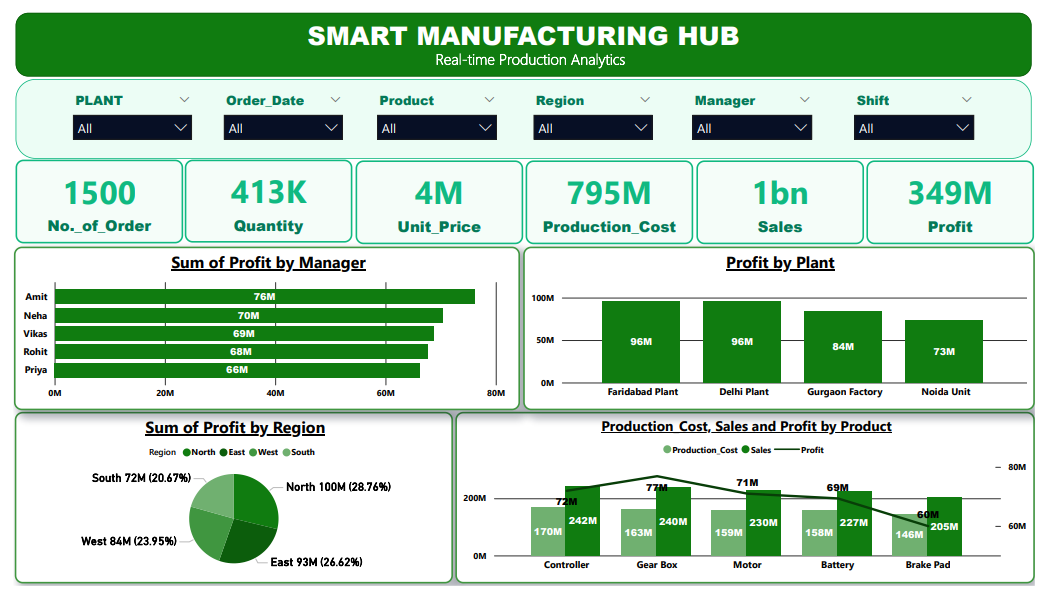

The page's visual inventory and layout, read from the dashboard file:
{"tool":"powerbi","page":{"name":"Page 1","canvas":[1280,720],"ordinal":0},"visuals":[{"type":"shape","box":[2.8,84.6,1273.2,100.1],"z":0},{"type":"pieChart","fields":{"Category":["Manufacturing_Data.Region"],"Y":["Sum(Manufacturing_Data.Profit)"]},"box":[1.5,502.2,549.7,215],"z":1000},{"type":"lineClusteredColumnComboChart","fields":{"Category":["Manufacturing_Data.Product"],"Y":["Sum(Manufacturing_Data.Production_Cost)","Sum(Manufacturing_Data.Sales)"],"Y2":["Sum(Manufacturing_Data.Profit)"]},"box":[554.2,502.2,725.3,215],"z":2000},{"type":"clusteredBarChart","fields":{"Category":["Manufacturing_Data.Manager"],"Y":["Sum(Manufacturing_Data.Profit)"]},"box":[1.1,295,634,205],"z":3000},{"type":"clusteredColumnChart","fields":{"Category":["Manufacturing_Data.Plant"],"Y":["Sum(Manufacturing_Data.Profit)"]},"box":[639,294.8,640.5,205],"z":4000},{"type":"card","fields":{"Values":["Manufacturing_Data.No._of_Order"]},"box":[3,185.7,210,105],"z":5000},{"type":"card","fields":{"Values":["Sum(Manufacturing_Data.Quantity)"]},"box":[215,185.7,210.5,104.5],"z":6000},{"type":"card","fields":{"Values":["Sum(Manufacturing_Data.Unit_Price)"]},"box":[428.5,187.2,210.5,105],"z":7000},{"type":"card","fields":{"Values":["Sum(Manufacturing_Data.Production_Cost)"]},"box":[642,187.2,210.5,105],"z":8000},{"type":"card","fields":{"Values":["Sum(Manufacturing_Data.Sales)"]},"box":[855.5,187.2,210.5,105],"z":9000},{"type":"card","fields":{"Values":["Sum(Manufacturing_Data.Profit)"]},"box":[1069,187.2,210,105],"z":10000},{"type":"slicer","fields":{"Values":["Manufacturing_Data.Plant"]},"box":[64.6,95.4,169.6,74.2],"z":11000},{"type":"shape","box":[3,1.5,1273.4,80.3],"z":12000},{"type":"textbox","box":[277.8,42.3,740.2,38.1],"z":13000},{"type":"slicer","fields":{"Values":["Manufacturing_Data.Order_Date"]},"box":[253.9,95.4,169.6,74.2],"z":14000},{"type":"slicer","fields":{"Values":["Manufacturing_Data.Product"]},"box":[446.2,95.4,169.6,74.2],"z":15000},{"type":"slicer","fields":{"Values":["Manufacturing_Data.Region"]},"box":[641.5,95.4,169.6,74.2],"z":16000},{"type":"slicer","fields":{"Values":["Manufacturing_Data.Manager"]},"box":[841.4,95.4,169.6,74.2],"z":17000},{"type":"slicer","fields":{"Values":["Manufacturing_Data.Shift"]},"box":[1044.3,95.4,169.6,74.2],"z":18000}]}

Visuals, with their boxes in screenshot pixels (x1, y1, x2, y2), scaled from the page's 1280x720 canvas onto the 1053x595 screenshot:
shape: 2/70/1050/153
pieChart - Manufacturing_Data.Region x Sum(Manufacturing_Data.Profit): 1/415/453/593
lineClusteredColumnComboChart - Manufacturing_Data.Product x Sum(Manufacturing_Data.Production_Cost): 456/415/1052/593
clusteredBarChart - Manufacturing_Data.Manager x Sum(Manufacturing_Data.Profit): 1/244/522/413
clusteredColumnChart - Manufacturing_Data.Plant x Sum(Manufacturing_Data.Profit): 526/244/1052/413
card - Manufacturing_Data.No._of_Order: 2/153/175/240
card - Sum(Manufacturing_Data.Quantity): 177/153/350/240
card - Sum(Manufacturing_Data.Unit_Price): 353/155/526/241
card - Sum(Manufacturing_Data.Production_Cost): 528/155/701/241
card - Sum(Manufacturing_Data.Sales): 704/155/877/241
card - Sum(Manufacturing_Data.Profit): 879/155/1052/241
slicer - Manufacturing_Data.Plant: 53/79/193/140
shape: 2/1/1050/68
textbox: 229/35/837/66
slicer - Manufacturing_Data.Order_Date: 209/79/348/140
slicer - Manufacturing_Data.Product: 367/79/507/140
slicer - Manufacturing_Data.Region: 528/79/667/140
slicer - Manufacturing_Data.Manager: 692/79/832/140
slicer - Manufacturing_Data.Shift: 859/79/999/140
